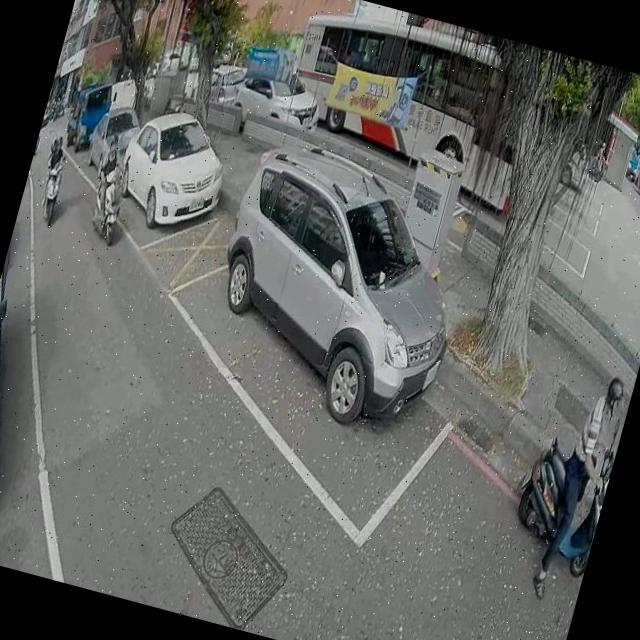person: (527, 368, 634, 611), (87, 132, 133, 220), (35, 133, 72, 210), (592, 138, 610, 172)
